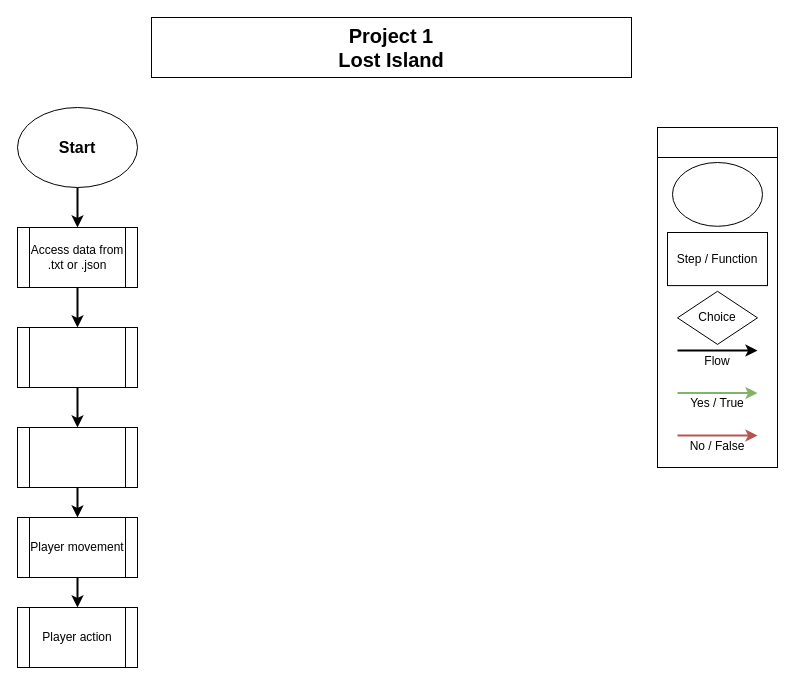
Image size: 795x685. Some labels were removed from this diagram. The shapes that lost their labels are listed below. From the top down, each one's box as (x1, y1, x2, y2) in pixels, then its label:
(656, 126, 778, 158): Legends
(672, 162, 762, 226): Start / End
(16, 326, 138, 388): Show main menu
(16, 426, 138, 488): Print map
